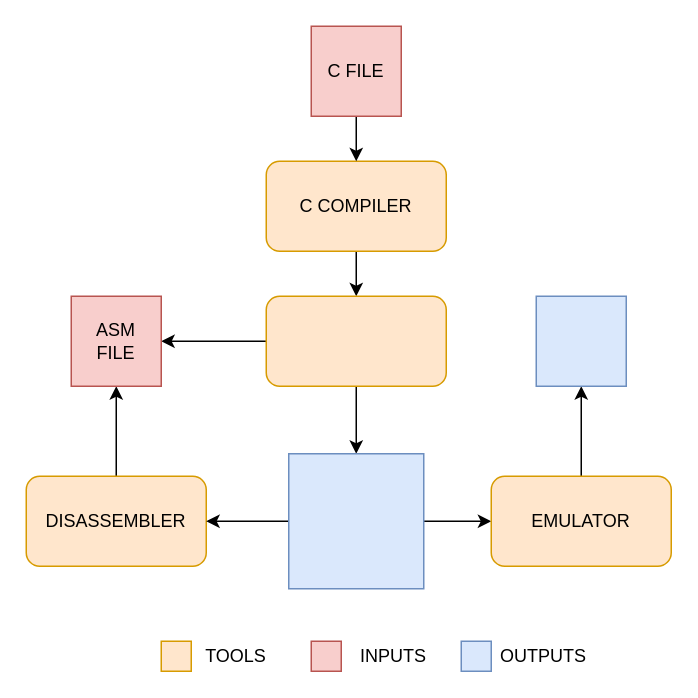
This 698x698 diagram has some shape labels left out. The shapes that lost their labels are listed below. From the top down, each one's box as (x1, y1, x2, y2) in pixels, then its label:
(265, 295, 446, 386): ASSEMBLER
(535, 295, 626, 386): TEST RESULT
(287, 452, 424, 589): EXECUTABLE CODE
